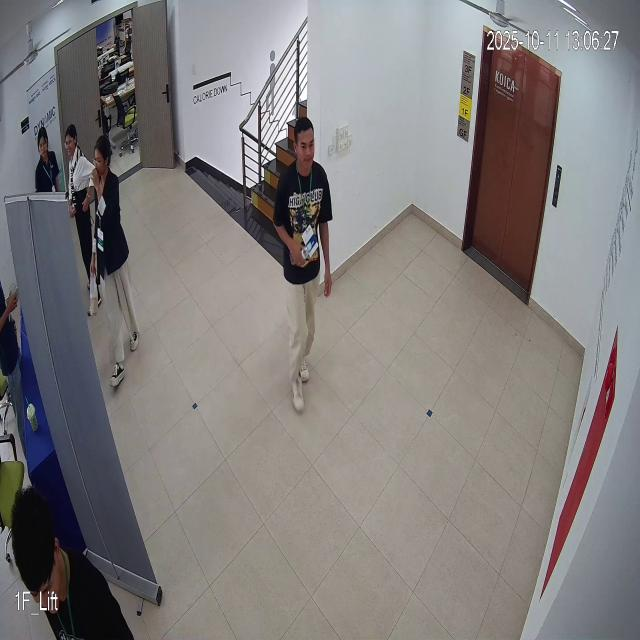face: (290, 104, 327, 179)
